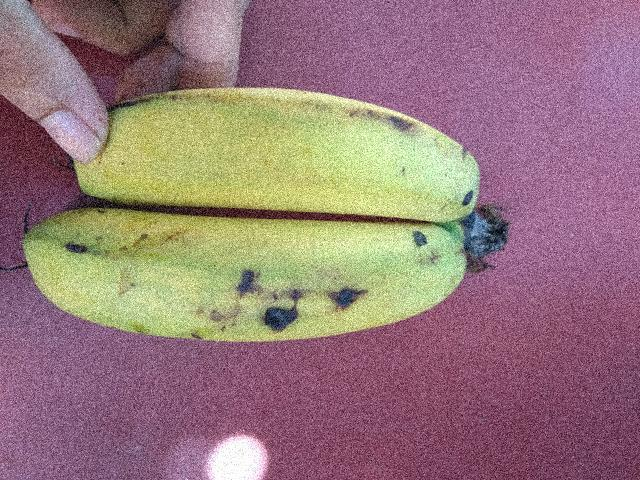ripe: (60, 68, 568, 214), (1, 213, 489, 360)
